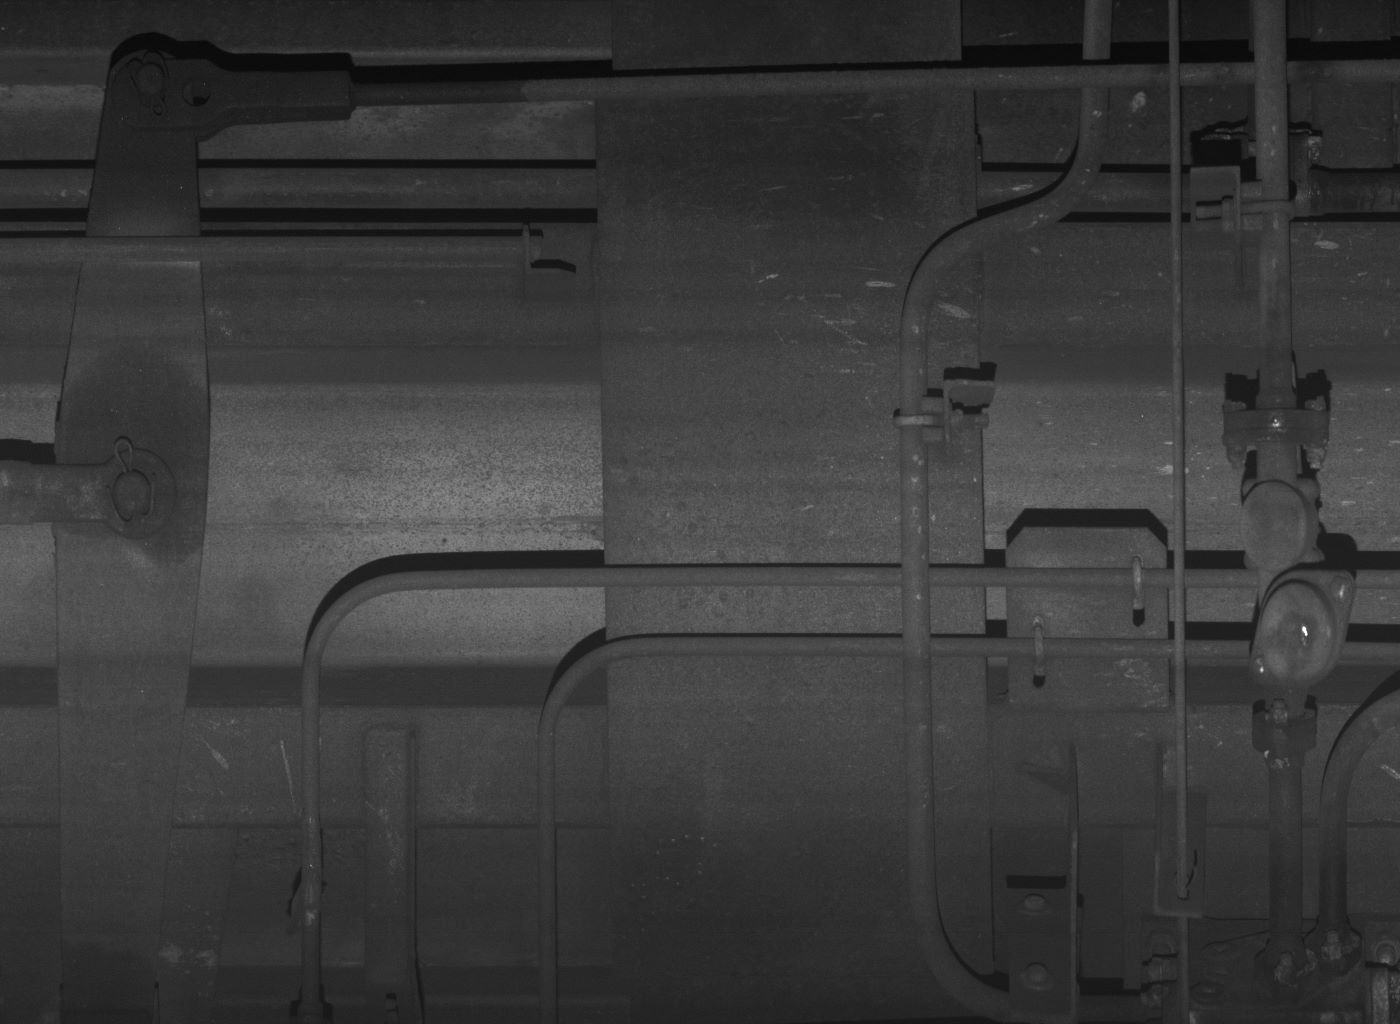normal: (1240, 477, 1326, 572)
